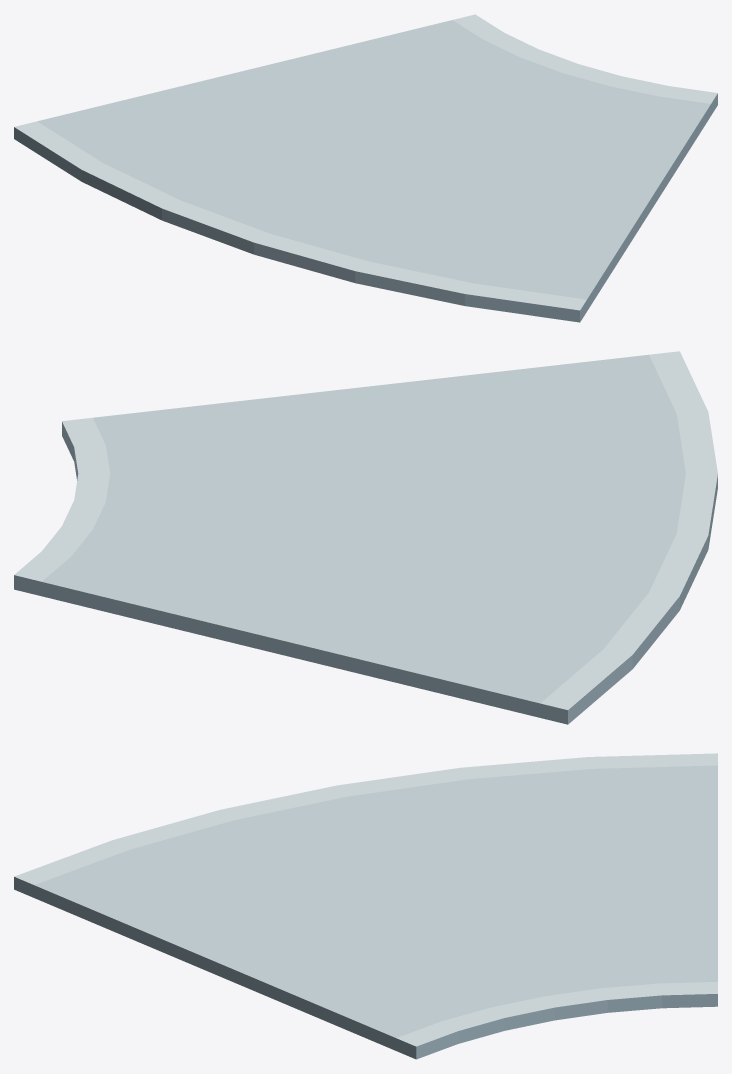
The model's file is campus_walk_bend_45_v01.glb.
3 views of the same model, one above another, from view 1: azimuth 30°, elevation 25°; view 2: azimuth 150°, elevation 25°; view 3: azimuth 270°, elevation 25° (orthographic). The views are drawn at different scales.
Parts seen in each view (by area): view 1: campus_walk_bend_45; view 2: campus_walk_bend_45; view 3: campus_walk_bend_45.
Boxes of the visible parts, <box> form: campus_walk_bend_45: <box>14,14,717,322</box>; campus_walk_bend_45: <box>14,351,717,724</box>; campus_walk_bend_45: <box>14,753,717,1059</box>.
Bounding box in the file's own units: 3.9 × 0.08 × 3.96.
Materials: 1 (1 with a texture image).
